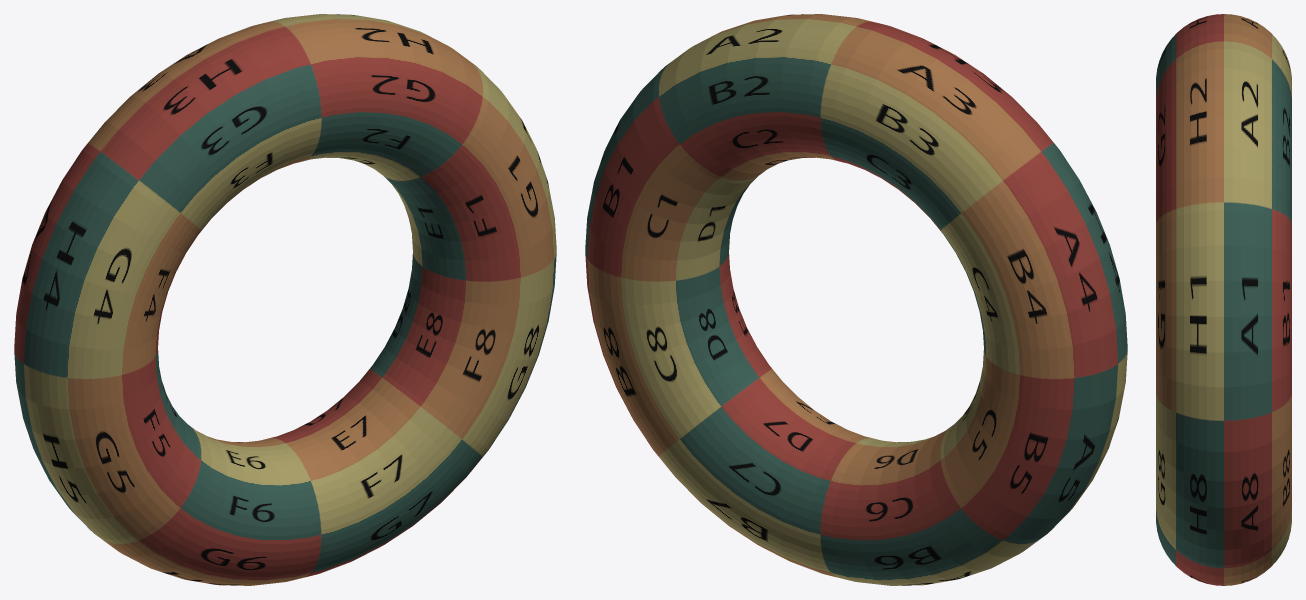
The model's file is texture_torus_R1_r5.glb.
3 views of the same model, side by side, from view 1: azimuth 30°, elevation 25°; view 2: azimuth 150°, elevation 25°; view 3: azimuth 270°, elevation 25° (orthographic). The views are drawn at different scales.
Parts seen in each view (by area): view 1: world; view 2: world; view 3: world.
Part boxes in pixels (x1,y1,x2,y2): world: [14, 14, 556, 585]; world: [585, 14, 1127, 585]; world: [1156, 14, 1291, 585].
Bounding box in the file's own units: 14 × 13.97 × 3.33.
1 material, 1 textured.
